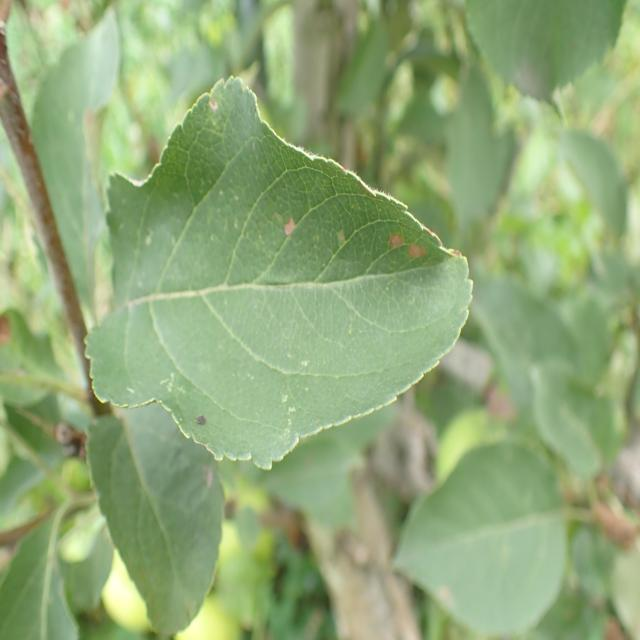frog-eye-leaf-spot: (83, 73, 475, 470)
